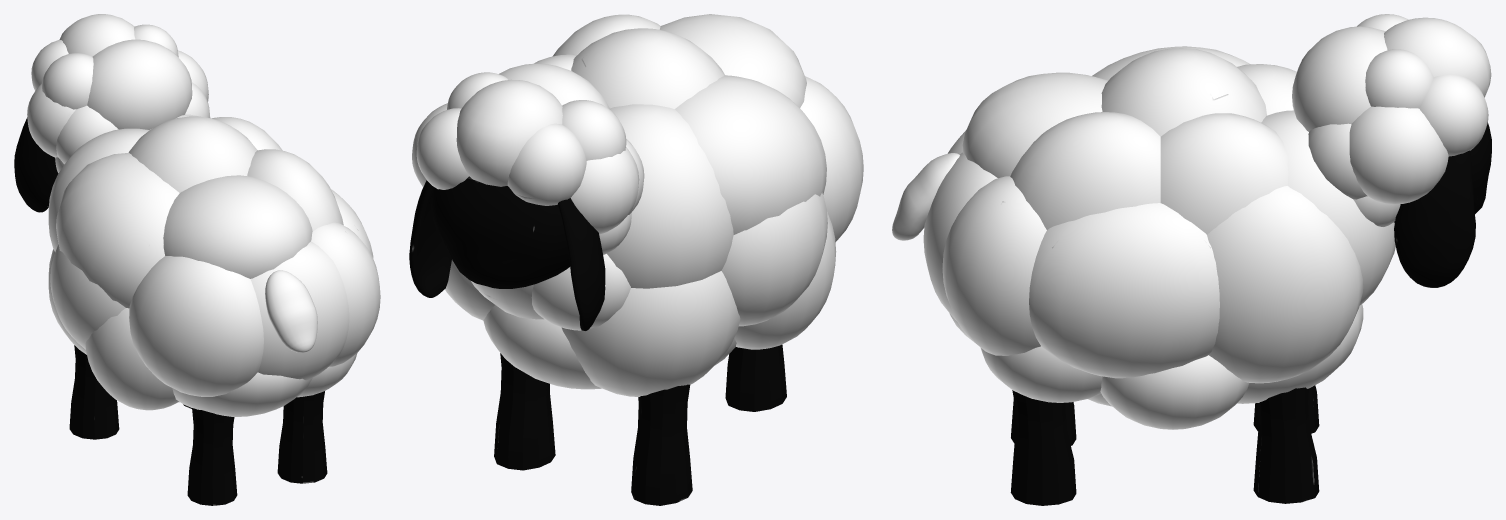
The model's file is SheepSeprateBase.fbx.
The picture shows the model from 3 angles, left to right: view 1: azimuth 30°, elevation 25°; view 2: azimuth 150°, elevation 25°; view 3: azimuth 270°, elevation 25°; orthographic projection. The views are drawn at different scales.
Parts seen in each view (by area): view 1: polySurface1, pSphere43, pCylinder4, pCylinder3, pCylinder1; view 2: polySurface1, pSphere43, pCylinder1, pCylinder2, pCylinder4; view 3: polySurface1, pSphere43, pCylinder2, pCylinder3.
Part boxes in pixels (bbox=[...]): polySurface1: bbox=[48, 114, 380, 416]; pSphere43: bbox=[14, 14, 210, 212]; pCylinder4: bbox=[187, 408, 237, 505]; pCylinder3: bbox=[277, 391, 327, 483]; pCylinder1: bbox=[69, 345, 119, 439]; polySurface1: bbox=[445, 14, 863, 396]; pSphere43: bbox=[409, 63, 644, 330]; pCylinder1: bbox=[631, 384, 692, 505]; pCylinder2: bbox=[494, 353, 555, 470]; pCylinder4: bbox=[725, 344, 786, 411]; polySurface1: bbox=[892, 46, 1395, 429]; pSphere43: bbox=[1292, 14, 1491, 287]; pCylinder2: bbox=[1253, 387, 1319, 503]; pCylinder3: bbox=[1010, 390, 1076, 505].
Size of the model in its own units: 2.41 by 2.95 by 3.62.
1 material, 1 textured.
